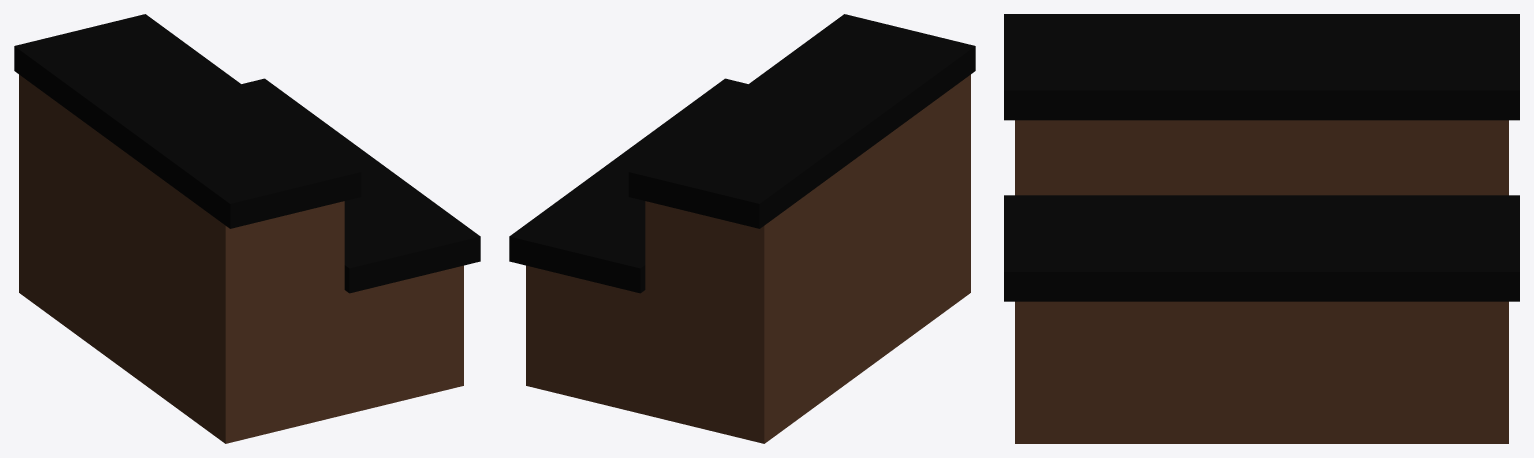
Rendered from GiftShopDesk.glb.
3 renders of one model, left to right at view 1: azimuth 30°, elevation 25°; view 2: azimuth 150°, elevation 25°; view 3: azimuth 270°, elevation 25°, orthographic. The views are drawn at different scales.
Visible parts, largest first — view 1: Cube.106, Cube.108, Cube.105, Cube.107; view 2: Cube.106, Cube.108, Cube.105, Cube.107; view 3: Cube.105, Cube.107, Cube.108, Cube.106.
Part boxes in pixels (x1,y1,x2,y2): Cube.106: (19, 74, 344, 443); Cube.108: (14, 14, 361, 228); Cube.105: (344, 265, 463, 414); Cube.107: (242, 78, 480, 293); Cube.106: (645, 74, 970, 443); Cube.108: (628, 14, 975, 228); Cube.105: (526, 265, 645, 414); Cube.107: (509, 78, 747, 293); Cube.105: (1015, 301, 1508, 443); Cube.107: (1004, 195, 1519, 301); Cube.108: (1004, 14, 1519, 120); Cube.106: (1015, 120, 1508, 195).
Bounding box in the file's own units: 4.2 × 3.9 × 6.27.
